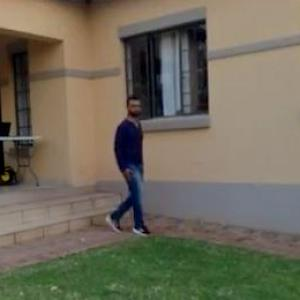follow: (121, 99, 154, 211)
